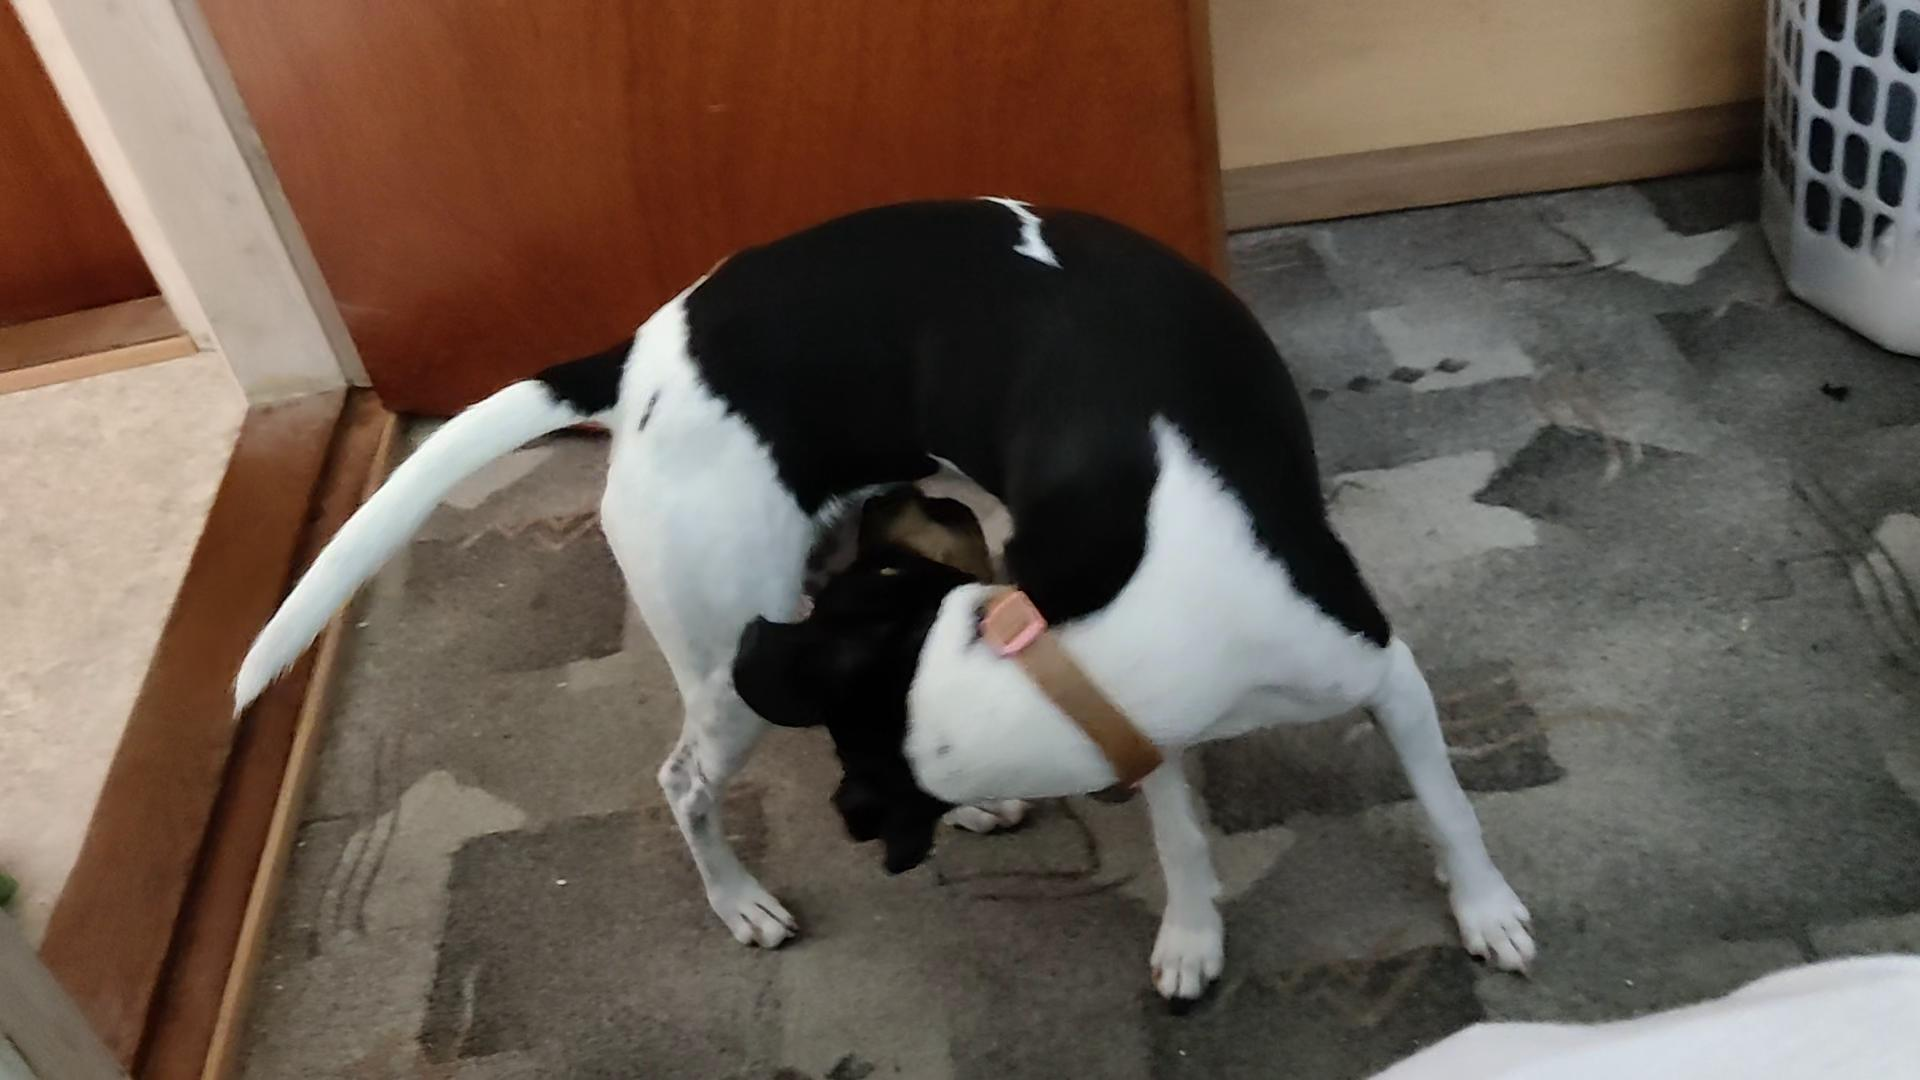Dog: (225, 175, 1542, 1007)
